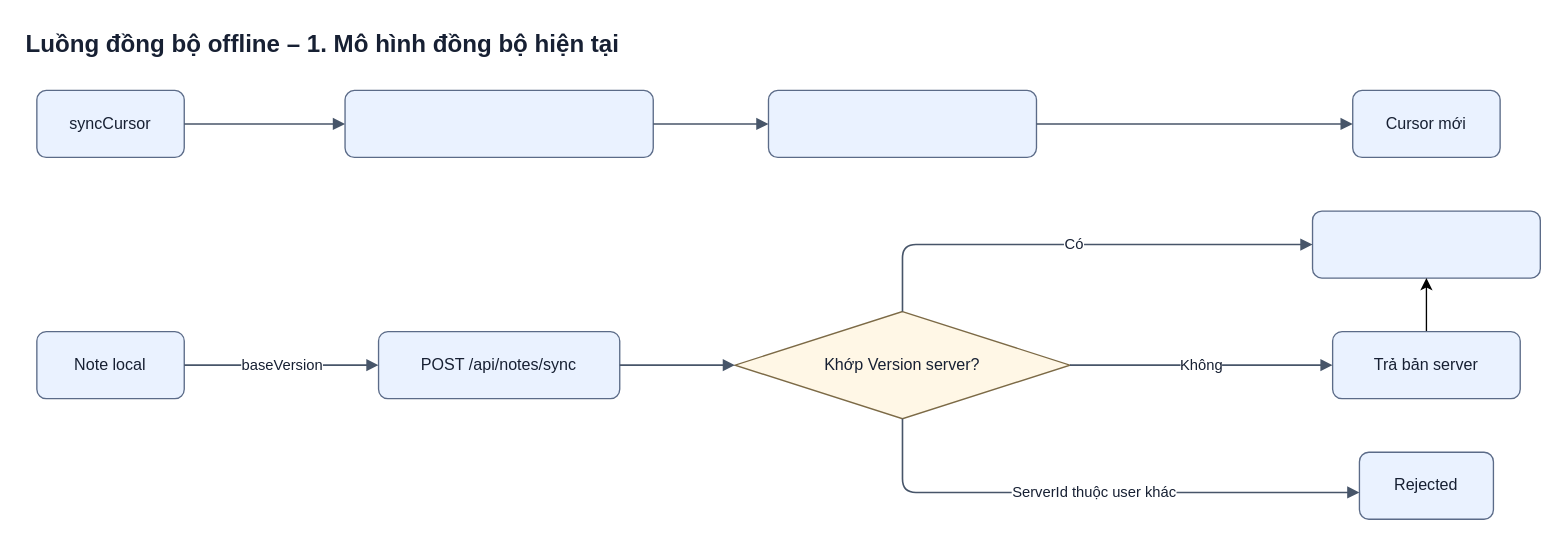
The diagram is 1564 pixels wide and 543 high, and some of its shapes have lost their labels. The centre of each missing label's shape, as x and y in pixels:
GET /api/notes?since=cursor: the point at 498,123
Notes có RowVer mới hơn: the point at 901,123
Tăng Version và ghi: the point at 1425,244
